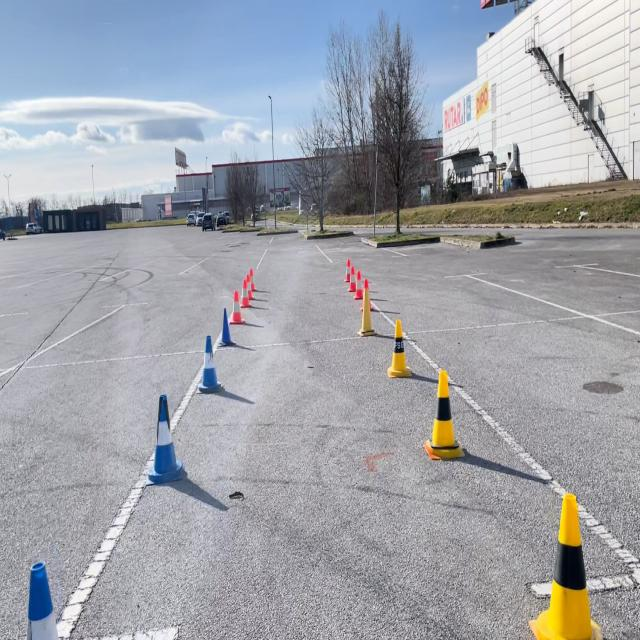blue_cone: (2, 558, 76, 640), (146, 393, 186, 484), (196, 334, 222, 394), (220, 305, 234, 348)
orange_cone: (228, 290, 244, 324), (352, 270, 363, 300), (248, 267, 256, 292), (345, 259, 353, 283), (368, 454, 377, 472)
yellow_cone: (528, 490, 603, 639), (424, 368, 464, 460), (386, 317, 412, 378), (355, 277, 375, 336)
